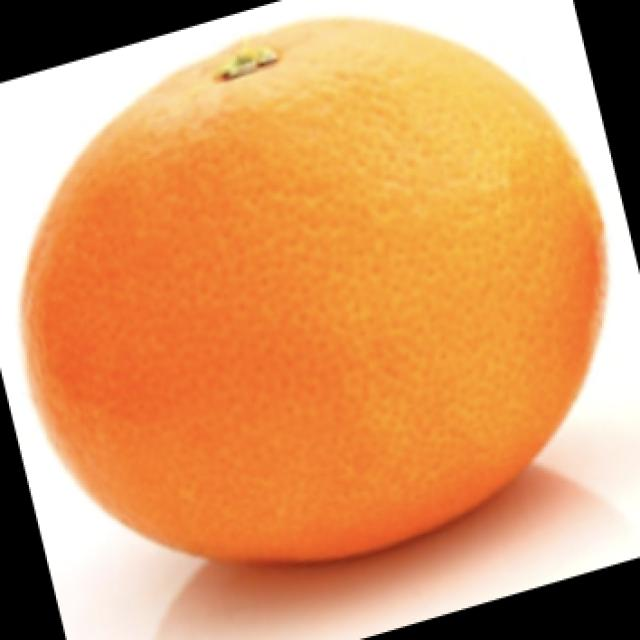matang: (24, 20, 607, 559)
